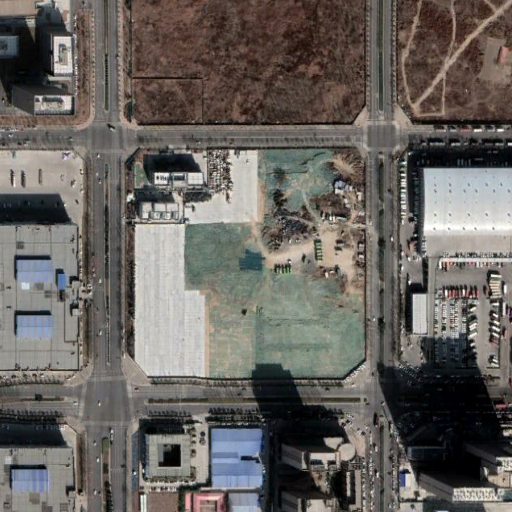cw: (186, 147, 366, 380)
